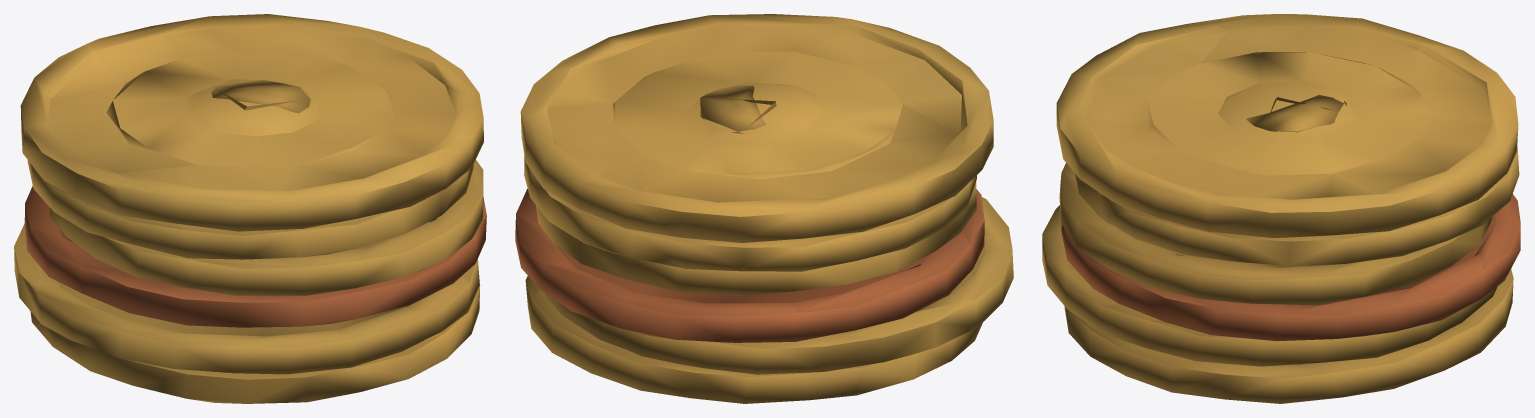
Rendered from grotto_coin_stack_c_lod1.glb.
The picture shows the model from 3 angles, left to right: view 1: azimuth 30°, elevation 25°; view 2: azimuth 150°, elevation 25°; view 3: azimuth 270°, elevation 25°; orthographic projection. The views are drawn at different scales.
Parts seen in each view (by area): view 1: grotto_coin_stack_c.001; view 2: grotto_coin_stack_c.001; view 3: grotto_coin_stack_c.001.
Boxes of the visible parts, <box> form: grotto_coin_stack_c.001: <box>14,14,486,403</box>; grotto_coin_stack_c.001: <box>515,14,1013,403</box>; grotto_coin_stack_c.001: <box>1042,14,1520,403</box>.
Bounding box in the file's own units: 5.66 × 2.77 × 5.63.
